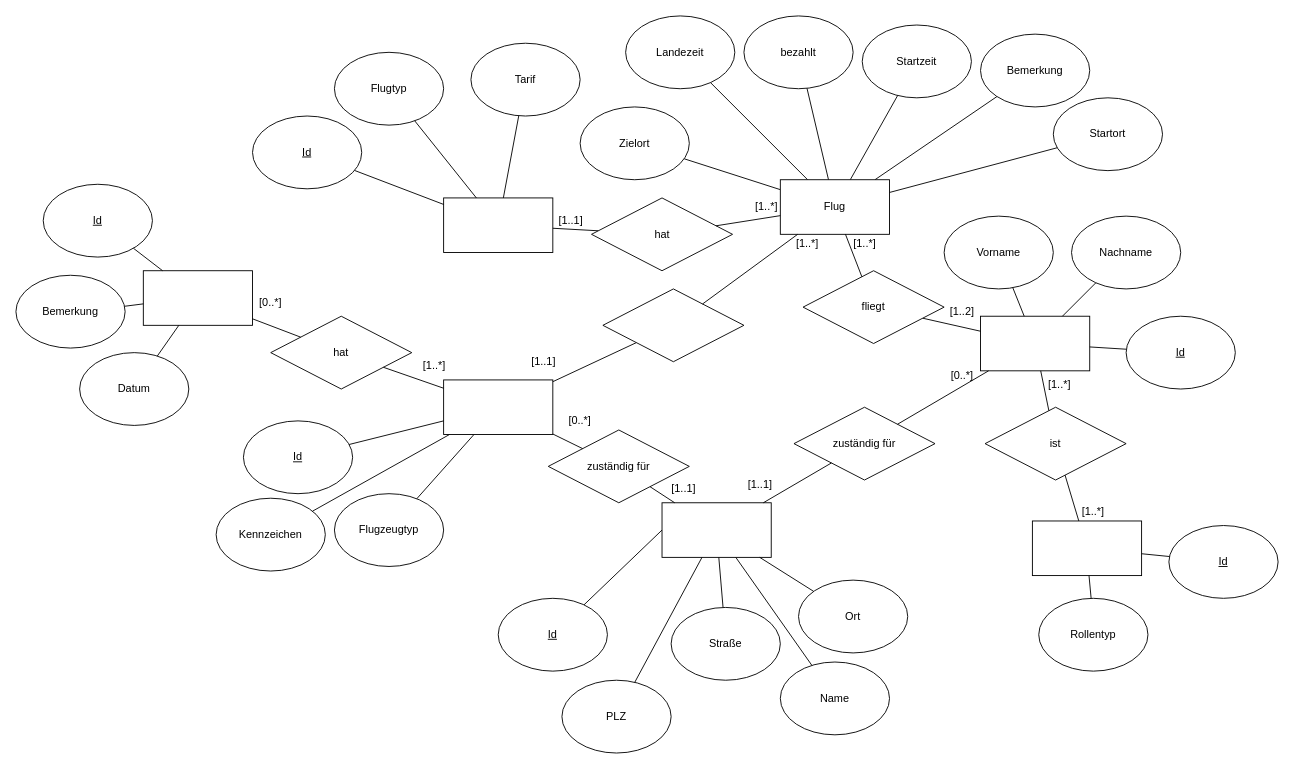
This 1294x769 diagram has some shape labels left out. The centre of each missing label's shape, as x and y in pixels:
Flugart: [498,225]
Flugzeug: [498,407]
Kostenstelle: [716,529]
Pilot: [1035,343]
Rolle: [1086,548]
verwendet: [673,325]
Wartung: [197,297]
